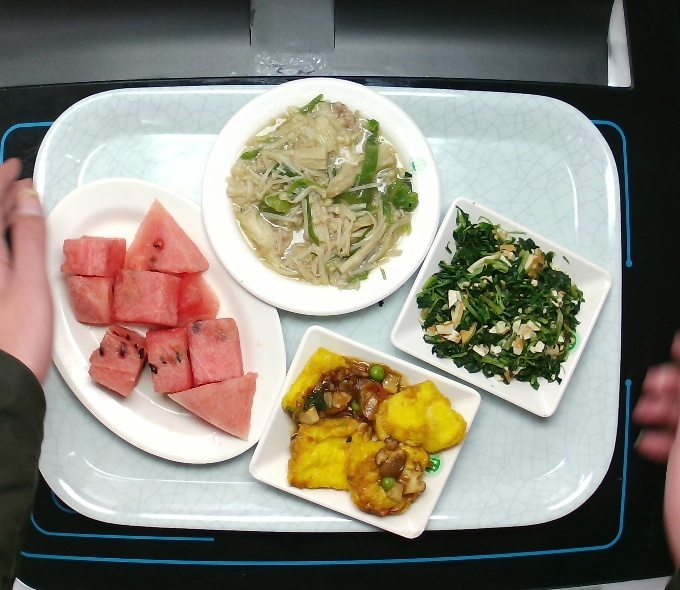wcq-CuiPiDouFu: (273, 341, 473, 524)
wcq-JinZhenGu: (215, 86, 423, 299)
wcq-MaLanTouChaoDouGan: (411, 201, 589, 395)
wcq-XiGua: (54, 195, 264, 449)
